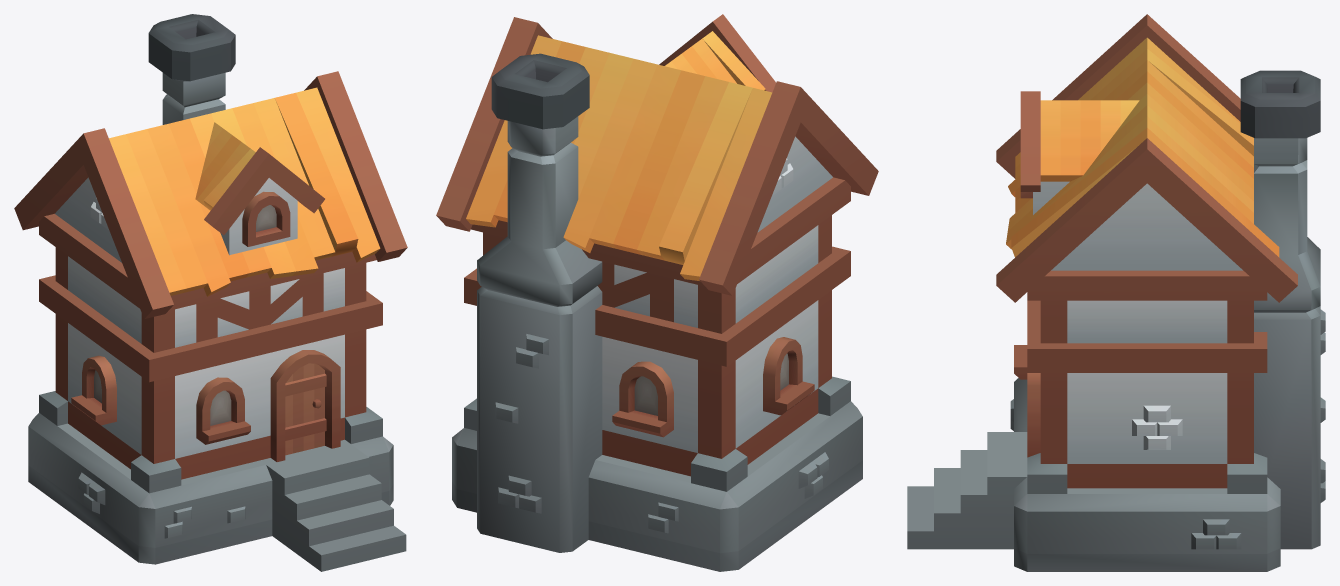
Rendered from kay-sobrado-amarelo.gltf.
3 views of the same model, side by side, from view 1: azimuth 30°, elevation 25°; view 2: azimuth 150°, elevation 25°; view 3: azimuth 270°, elevation 25° (orthographic). The views are drawn at different scales.
Parts seen in each view (by area): view 1: building_home_B_yellow; view 2: building_home_B_yellow; view 3: building_home_B_yellow.
Boxes of the visible parts, x1=… form: building_home_B_yellow: x1=14, y1=14, x2=407, y2=571; building_home_B_yellow: x1=436, y1=14, x2=878, y2=571; building_home_B_yellow: x1=907, y1=14, x2=1325, y2=571.
Bounding box in the file's own units: 4.37 × 6.4 × 5.49.
Materials: 1 (1 with a texture image).
